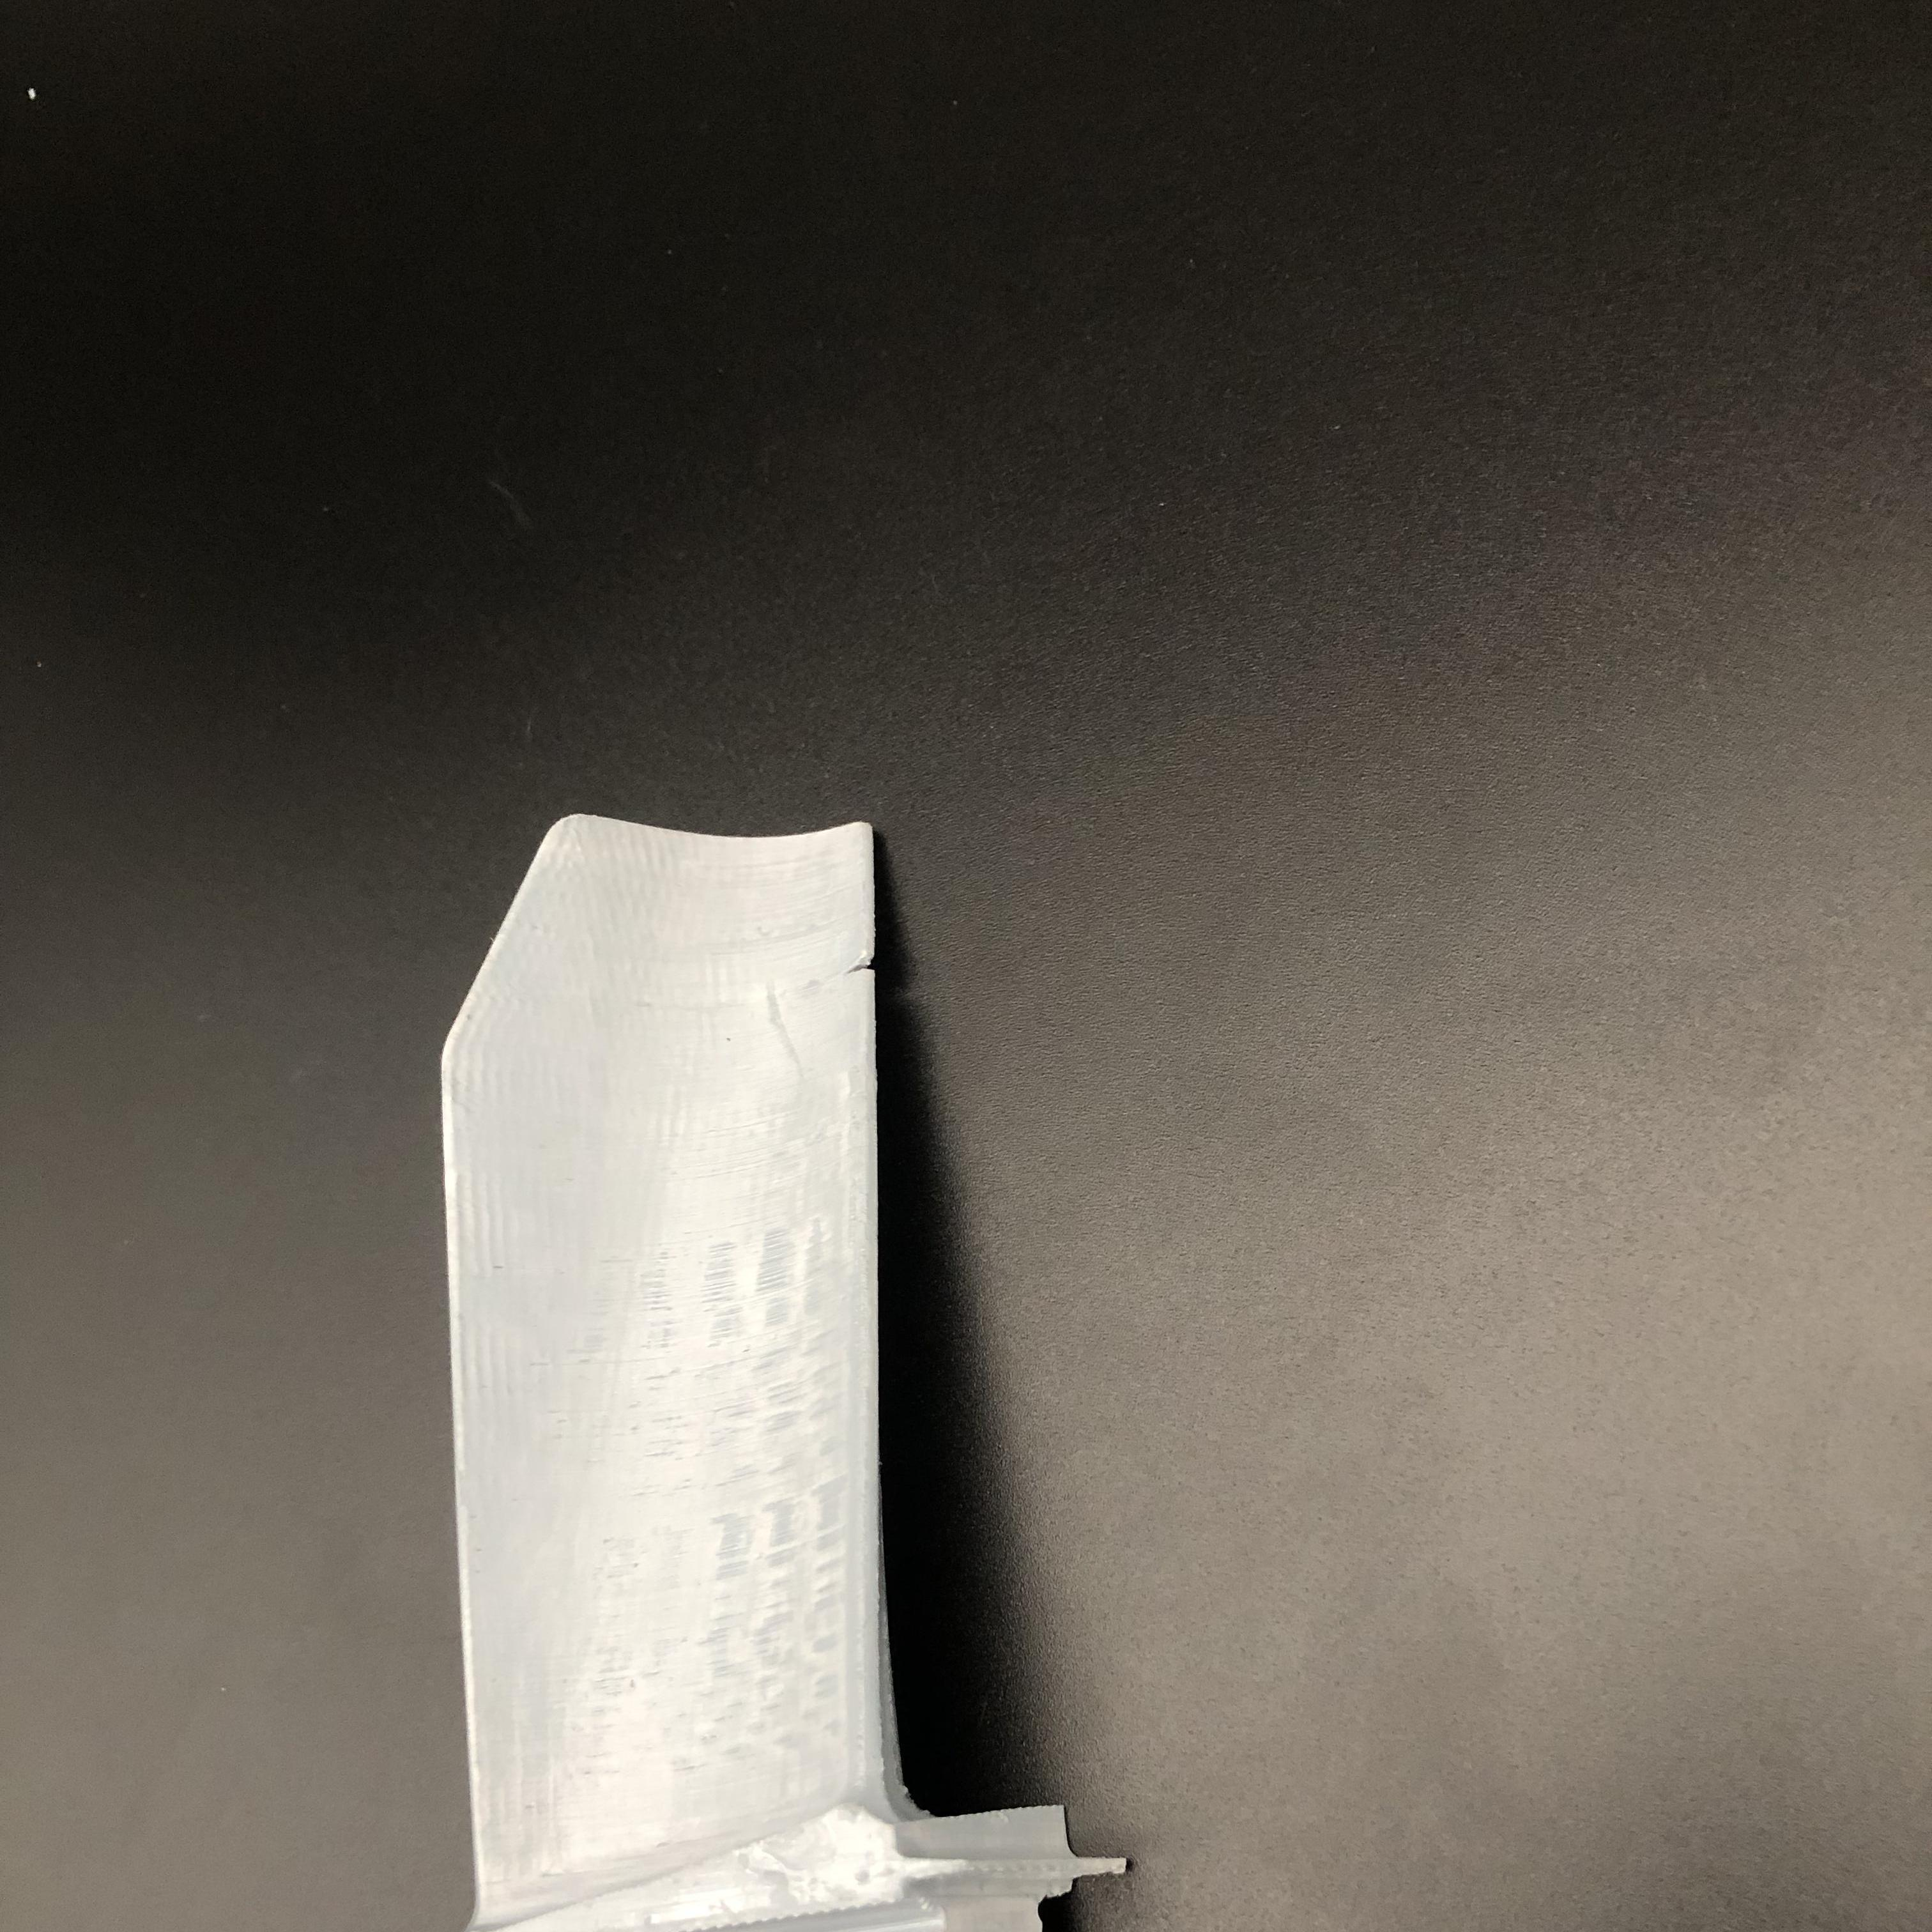groove: (840, 952, 886, 984)
